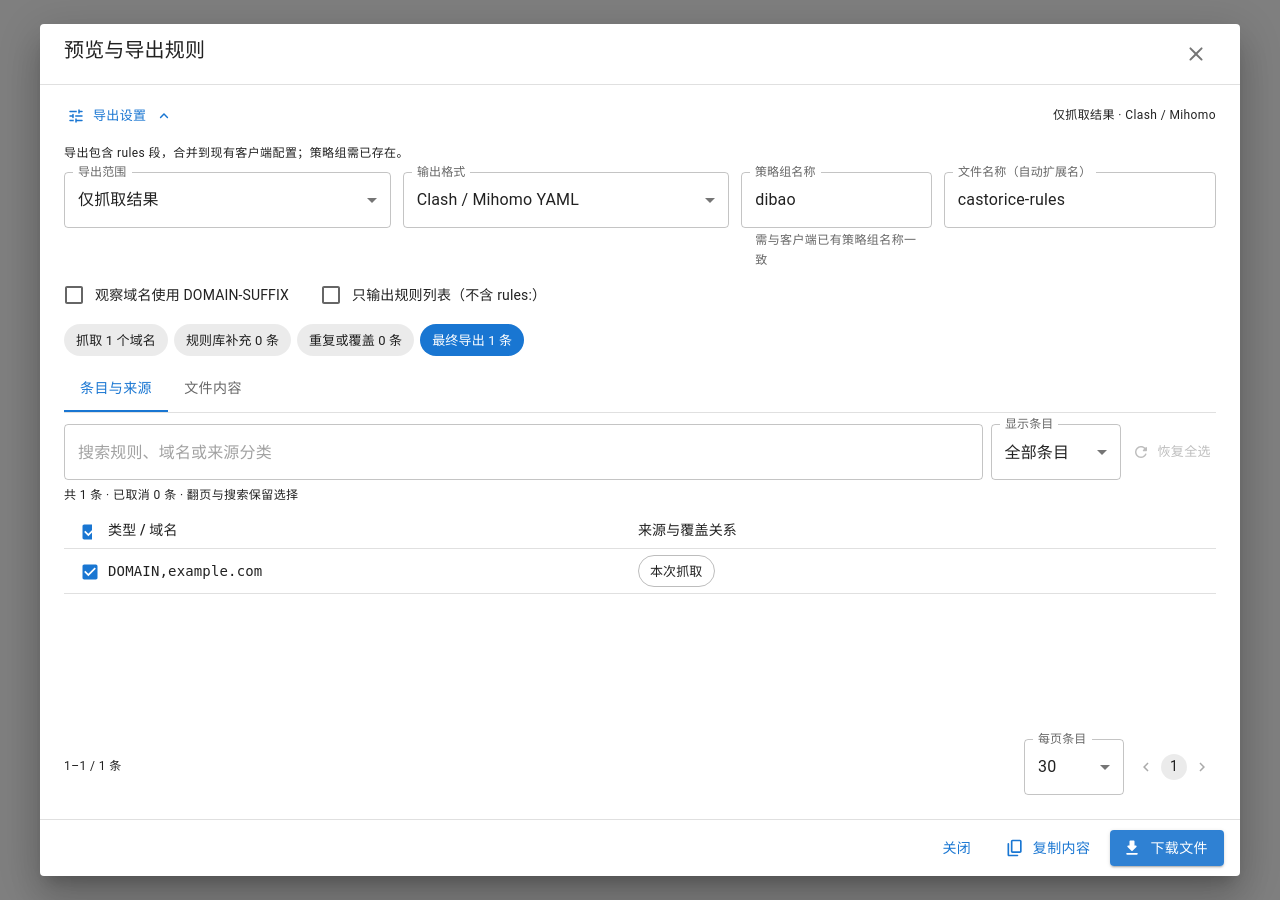
Scenario: 导出预览 › 计算失败和迟到的旧预览均不能下载，保留条目可恢复
The image size is (1280, 900).
Expected: the checkbox named "导出 DOMAIN,example.com" is shown, [80,562,100,582]
Replace the text in the field labelled "策略组名称" with "old". click: (837, 200)
box: [741,172,932,228]
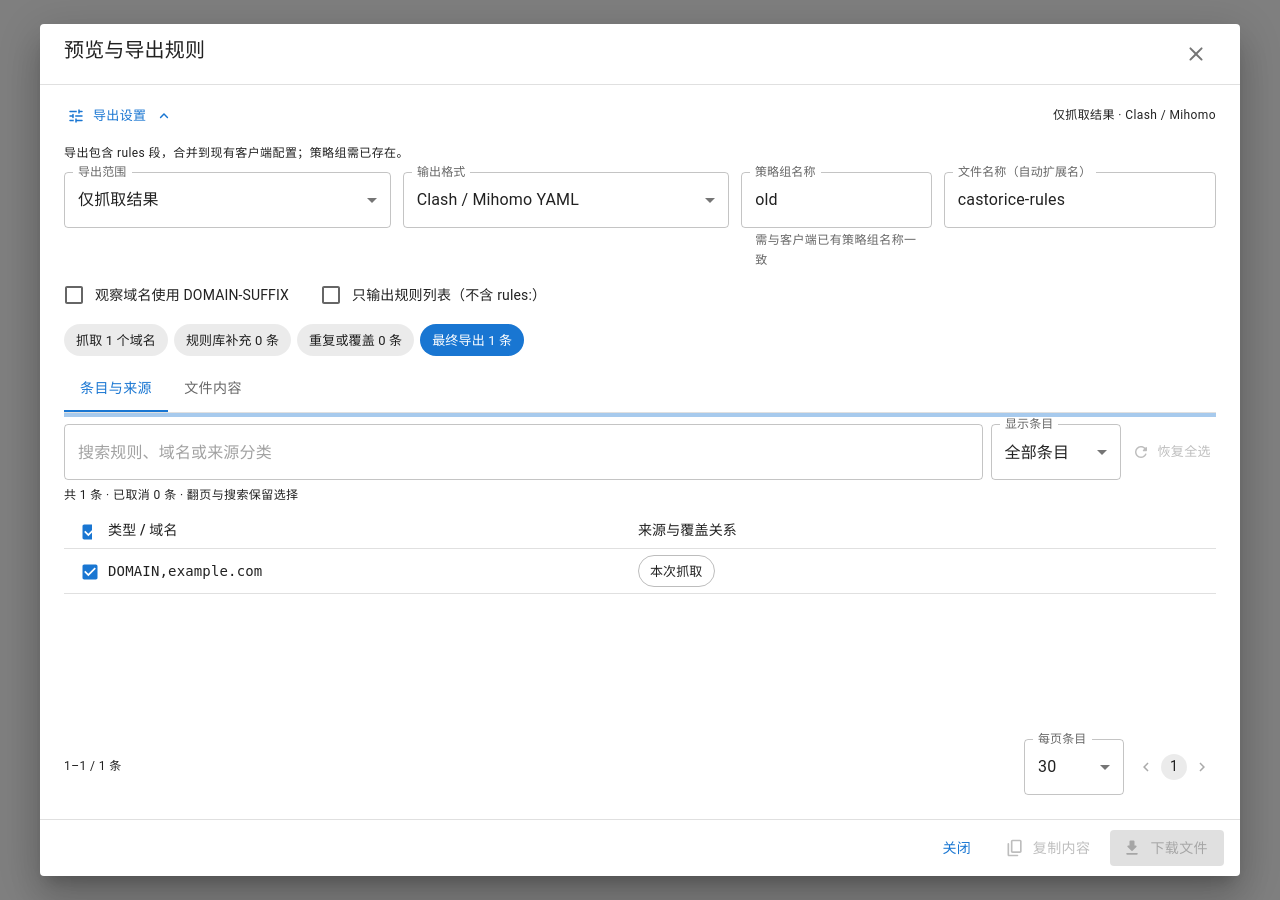
Replace the text in the field labelled "策略组名称" with "bad". click: (837, 200)
box: [741,172,932,228]
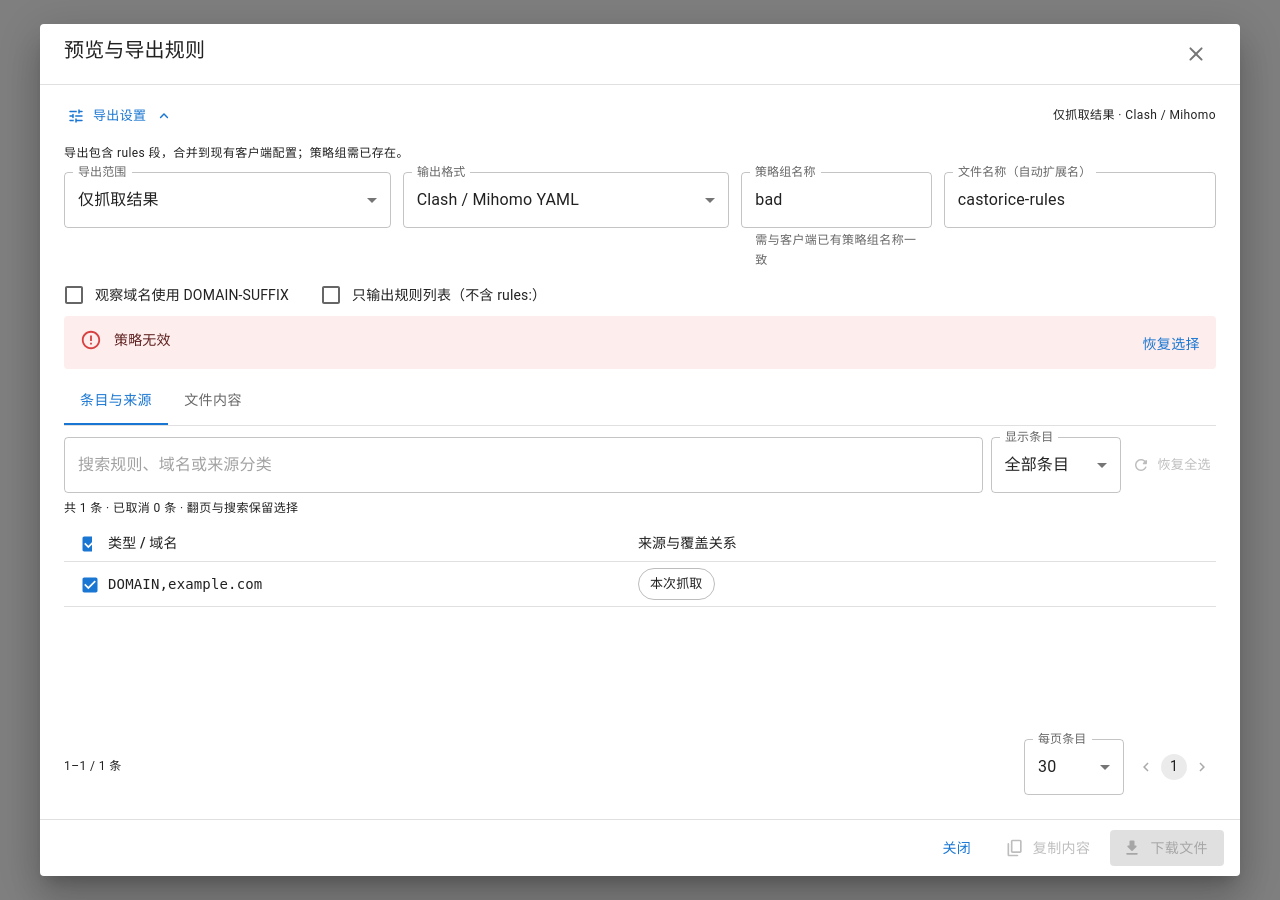
Now the button "下载文件" is disabled, box [1110,830,1224,866]
Now the text "策略无效" is shown, box [114,332,171,348]
